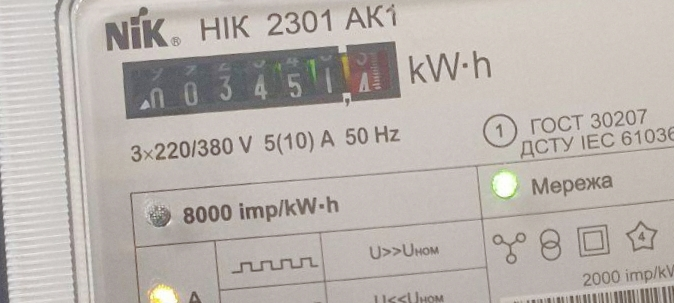0: (144, 82, 167, 111), (179, 78, 201, 108)
1: (318, 63, 338, 96)
3: (213, 70, 236, 103)
4: (247, 70, 271, 104), (351, 67, 374, 98)
5: (283, 68, 304, 101)
screen: (111, 23, 408, 139)
